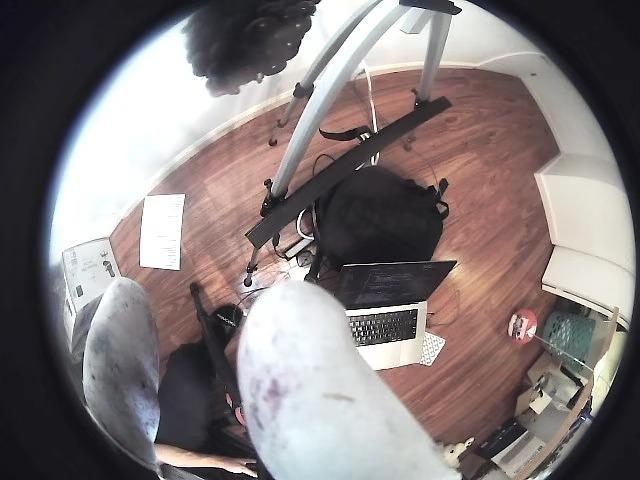berry: (183, 0, 319, 95)
gripper: (236, 280, 460, 479), (82, 277, 159, 471)
lense: (0, 0, 199, 479), (477, 0, 639, 221), (558, 320, 639, 479)
